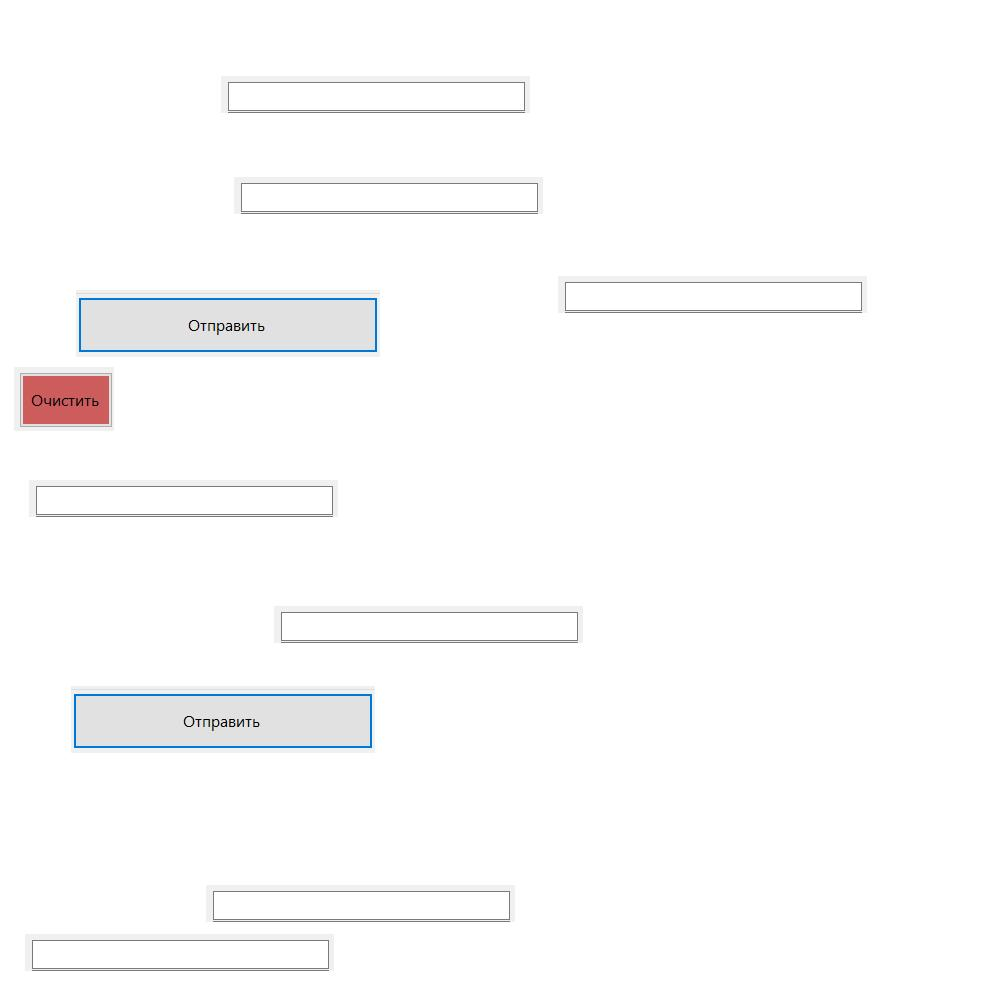Button: (71, 686, 375, 753), (76, 290, 380, 357), (14, 367, 114, 431)
EditText-: (274, 606, 583, 643), (558, 276, 867, 313), (206, 885, 515, 922), (25, 934, 334, 971), (221, 76, 530, 113), (234, 177, 543, 214), (29, 480, 338, 517)
